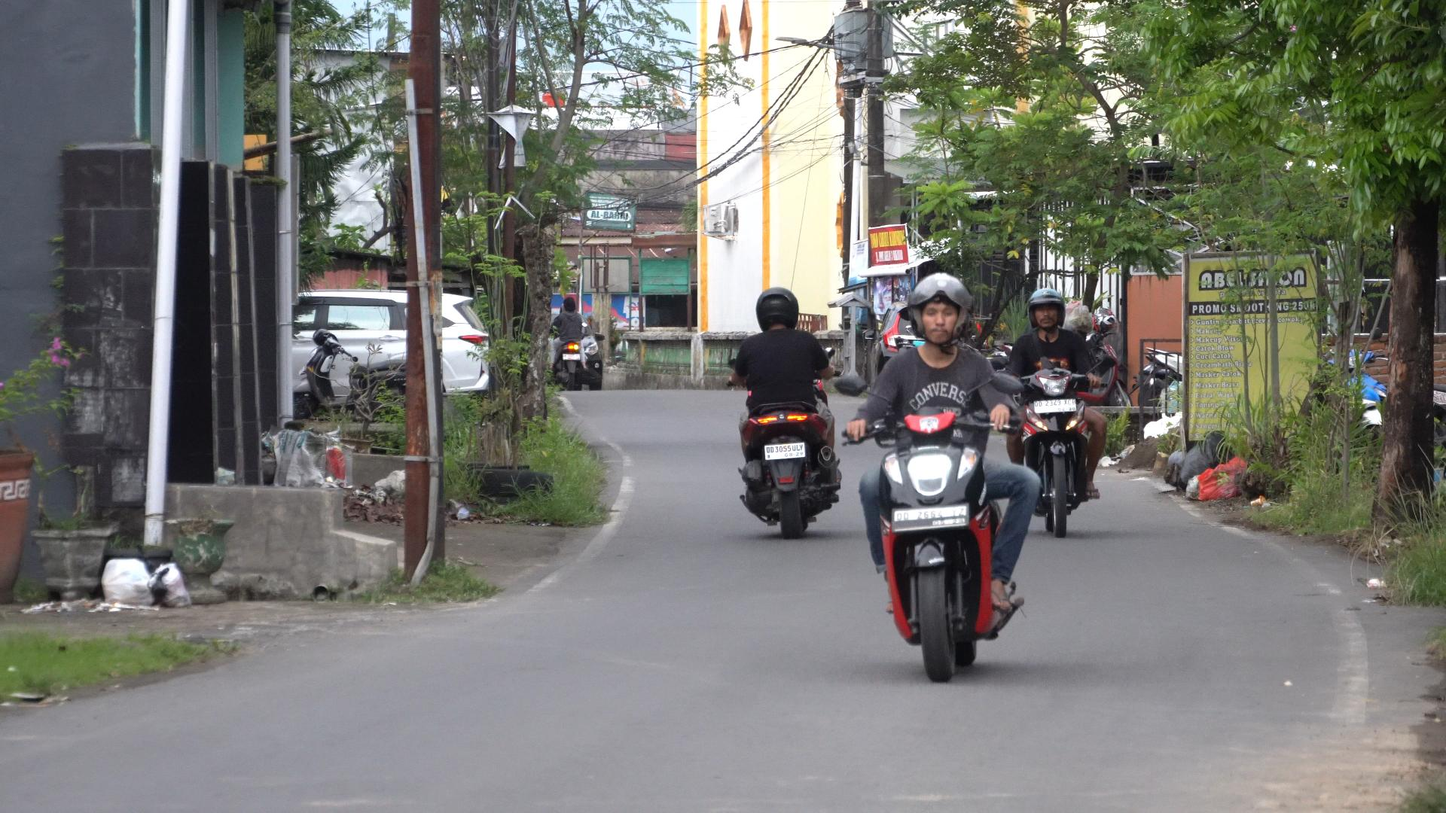number-plate: (893, 502, 973, 532)
